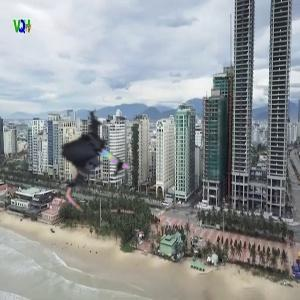drone: (40, 110, 145, 215)
